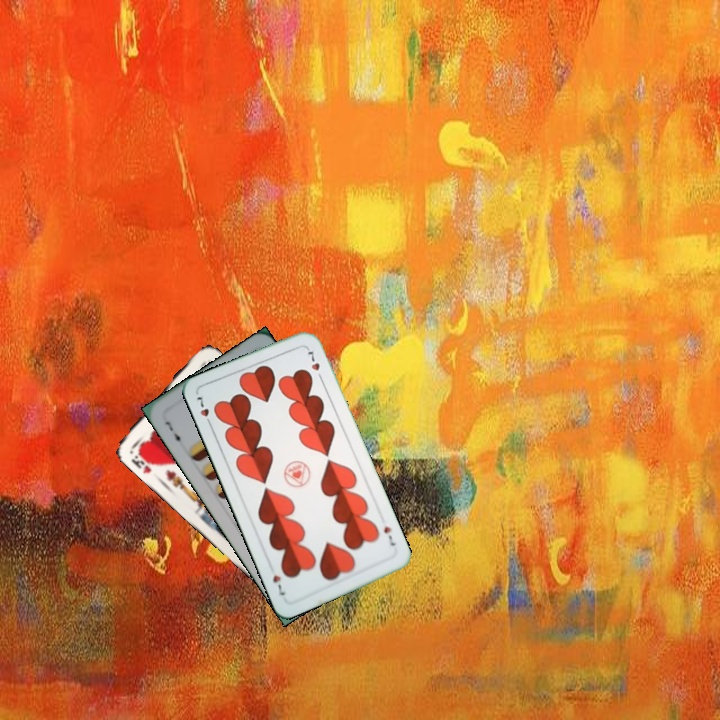E7: (161, 417, 184, 448)
H7: (192, 392, 215, 429), (379, 522, 398, 548)
HK: (127, 446, 161, 476)
